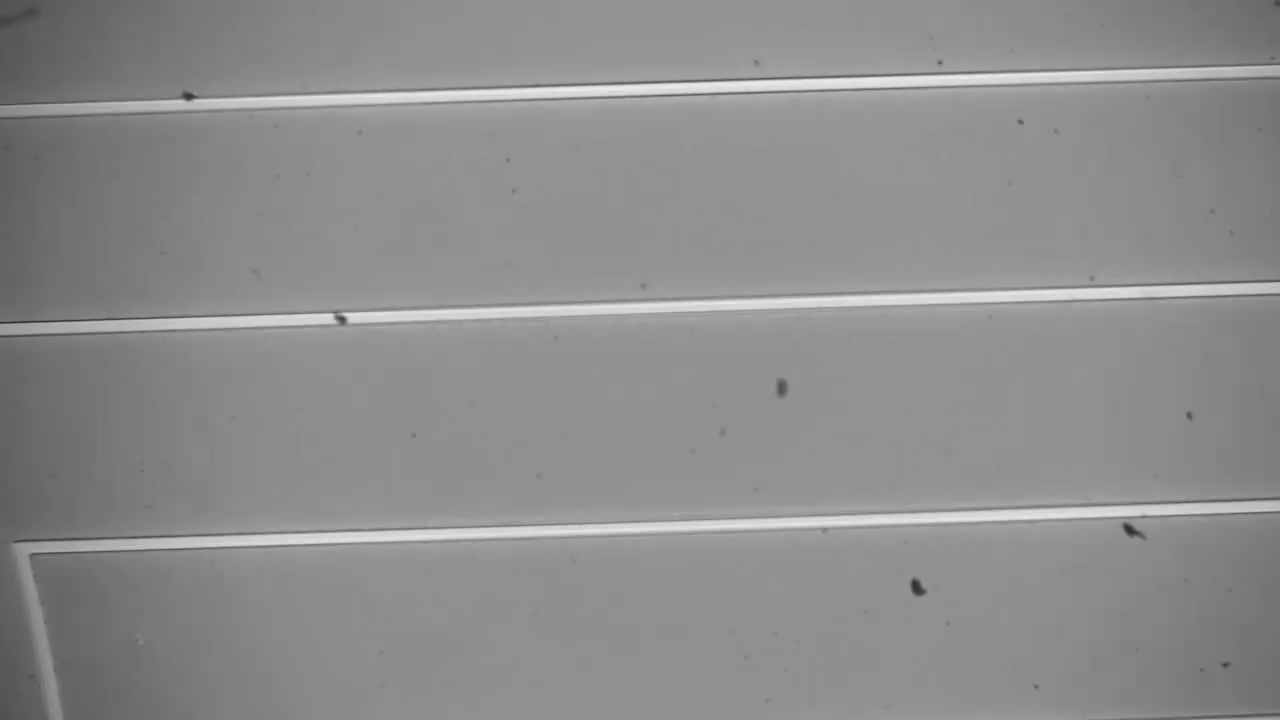stains_enbedded: (327, 301, 353, 332), (178, 89, 201, 116)
